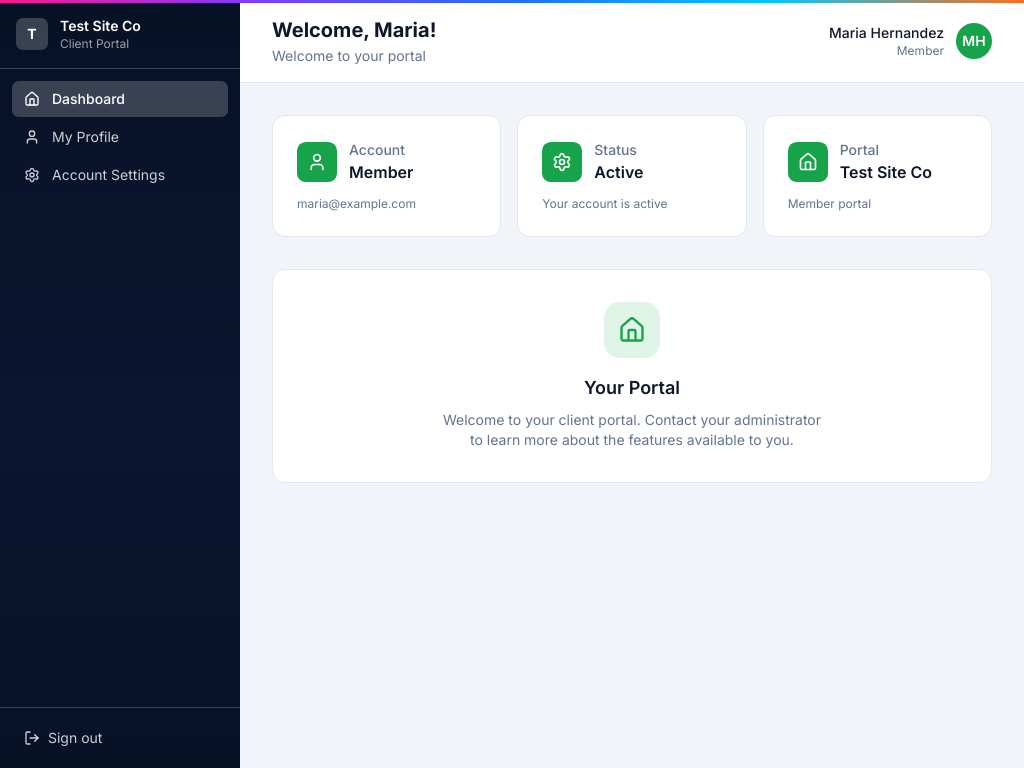
Test case: P5 FIX 1a — sidebar NavLinks are real interactive buttons › clicking My Profile switches to the profile section
The image size is (1024, 768).
Click the button "My Profile" at (120, 137), box [12,119,228,155]
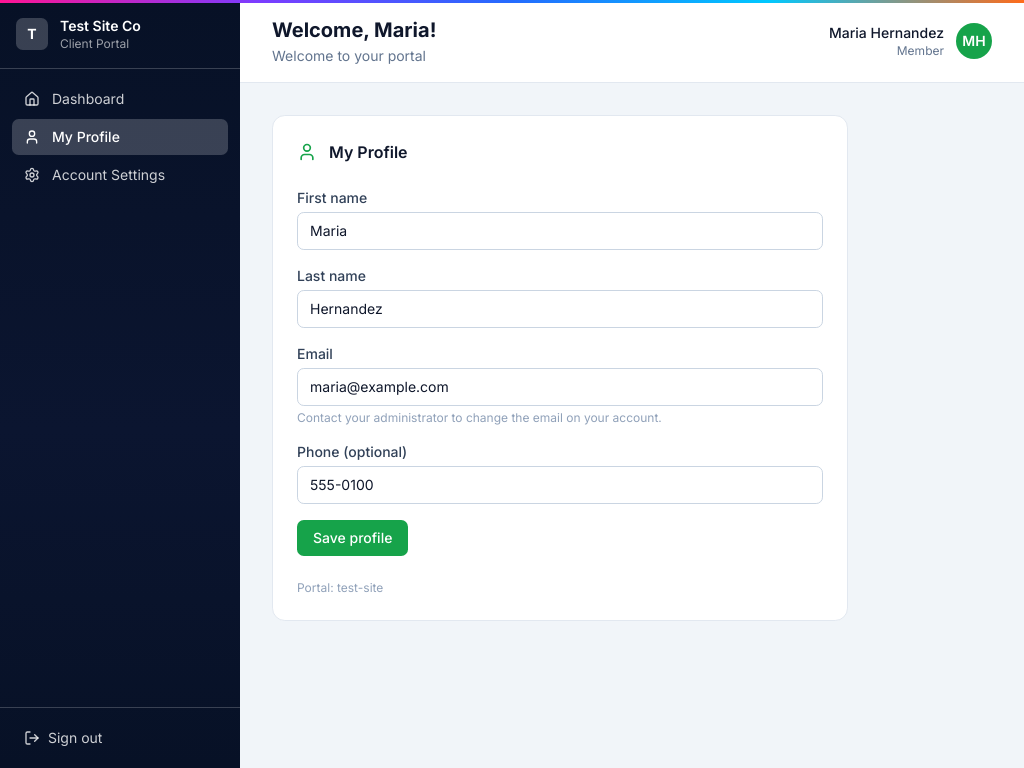
Check: the element with test id "portal-profile-section" is shown, box [272,115,848,621]
